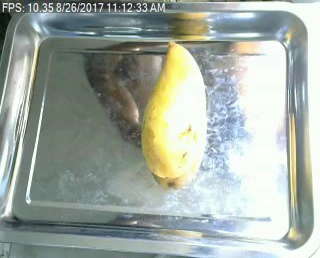Mango: (128, 36, 217, 181)
